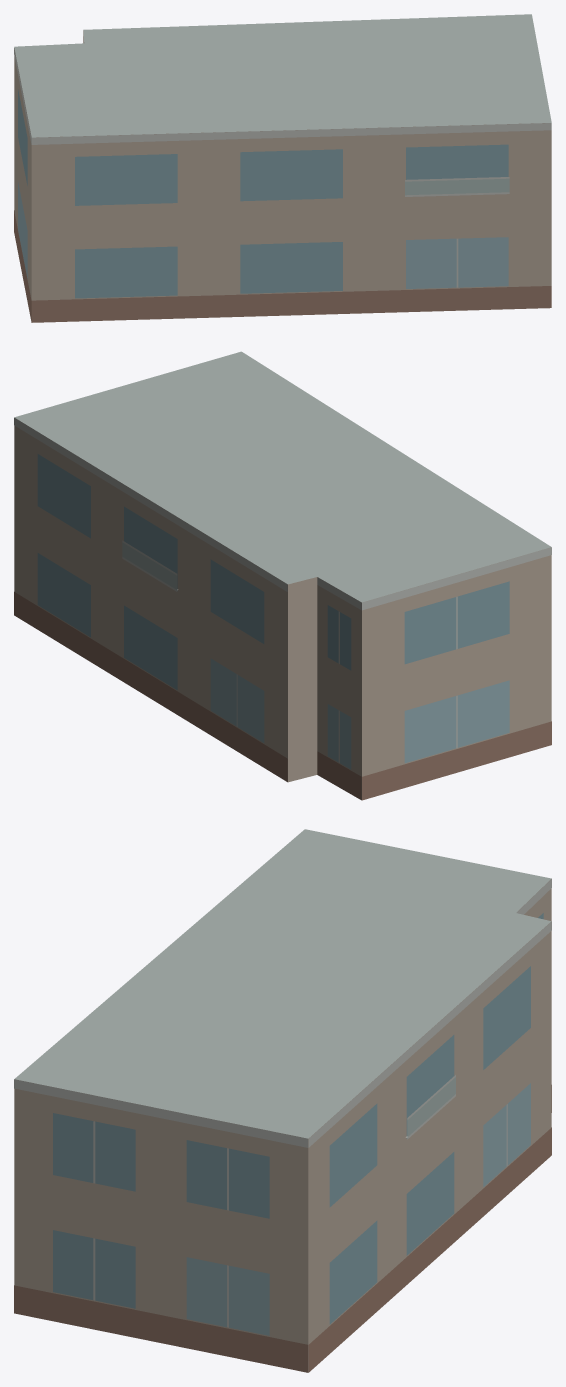
Rendered from survey-upis-32846973.glb.
3 views of the same model, one above another, from view 1: azimuth 30°, elevation 25°; view 2: azimuth 150°, elevation 25°; view 3: azimuth 270°, elevation 25° (orthographic). The views are drawn at different scales.
Parts seen in each view (by area): view 1: survey-upis-32846973.tmp; view 2: survey-upis-32846973.tmp; view 3: survey-upis-32846973.tmp.
Part boxes in pixels (x1,y1,x2,y2): survey-upis-32846973.tmp: (14,14,551,322); survey-upis-32846973.tmp: (14,351,551,800); survey-upis-32846973.tmp: (14,829,551,1372).
Bounding box in the file's own units: 17.31 × 6.1 × 12.7.
